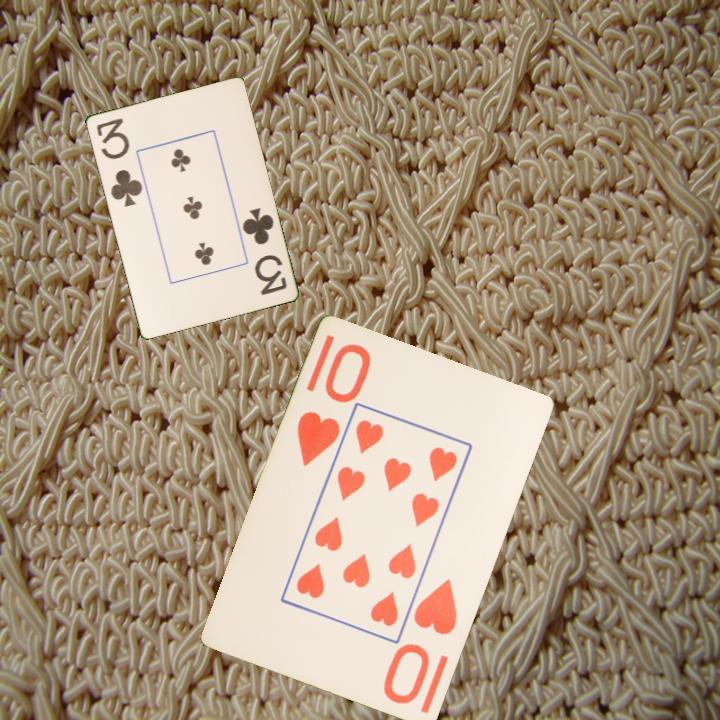10h: (381, 575, 461, 708), (293, 340, 372, 470)
3c: (92, 114, 145, 209), (238, 204, 289, 298)
